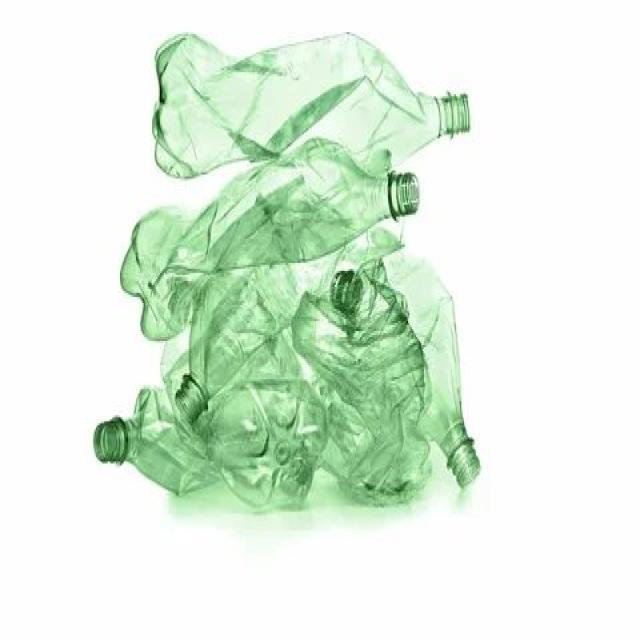green: (119, 138, 417, 342), (150, 31, 470, 179)
